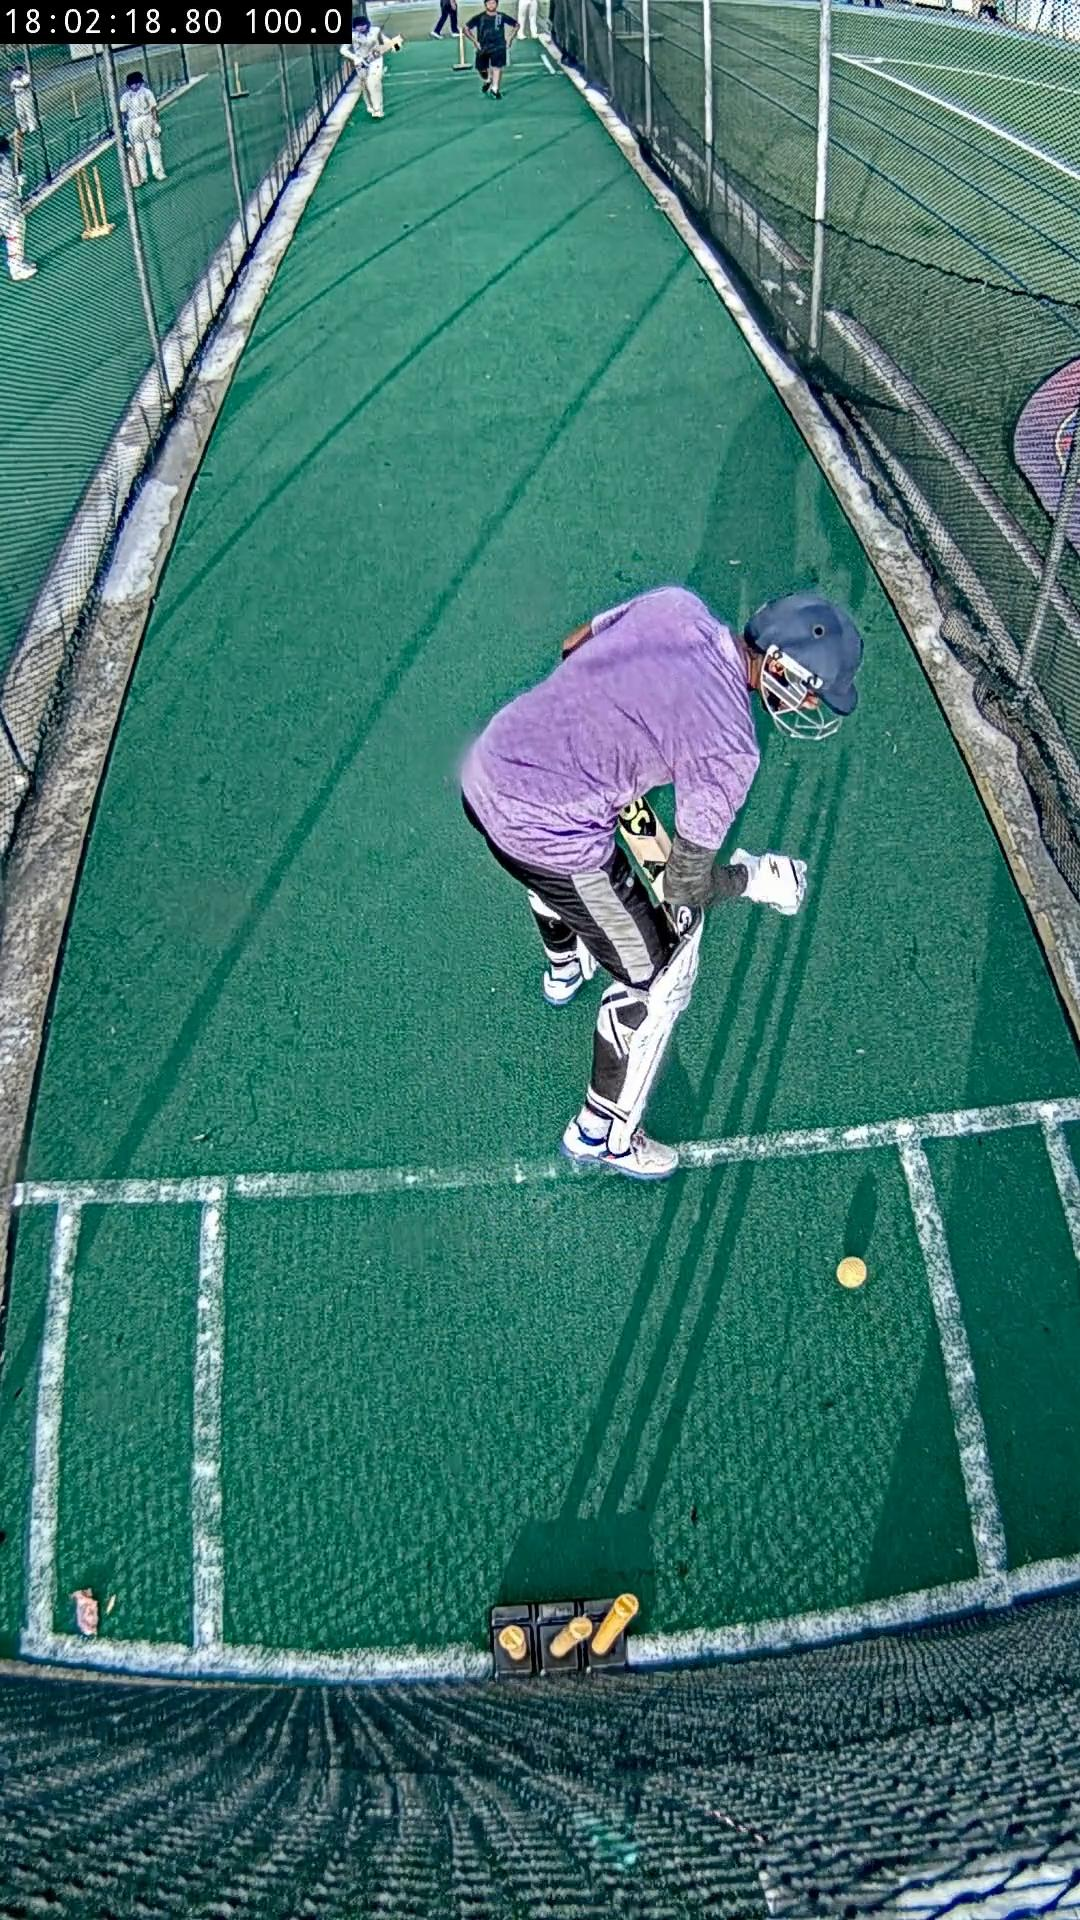ball: (836, 1257, 866, 1290)
bat: (618, 795, 671, 898)
gloves: (732, 848, 806, 915)
helmet: (746, 592, 862, 716)
pads: (612, 907, 705, 1150)
stumps: (488, 1594, 641, 1680)
